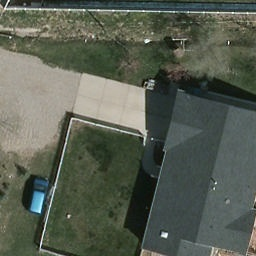car: (27, 177, 50, 216)
